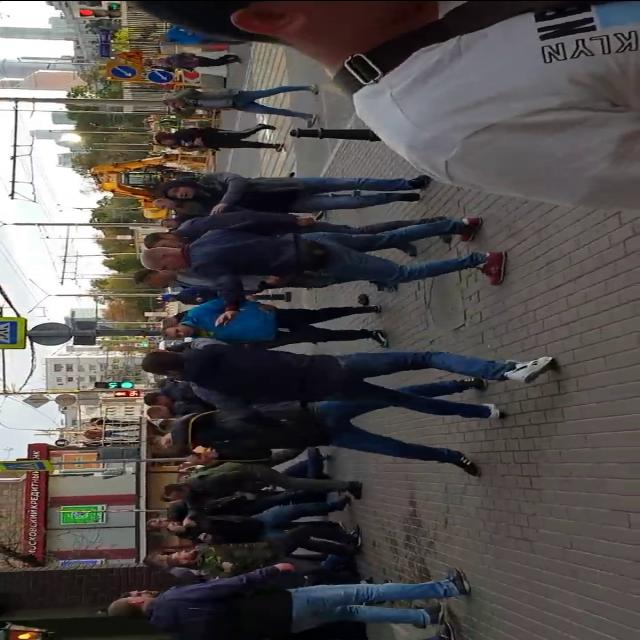NonViolence: (138, 212, 514, 330)
Violence: (145, 340, 553, 468), (157, 459, 363, 547)
